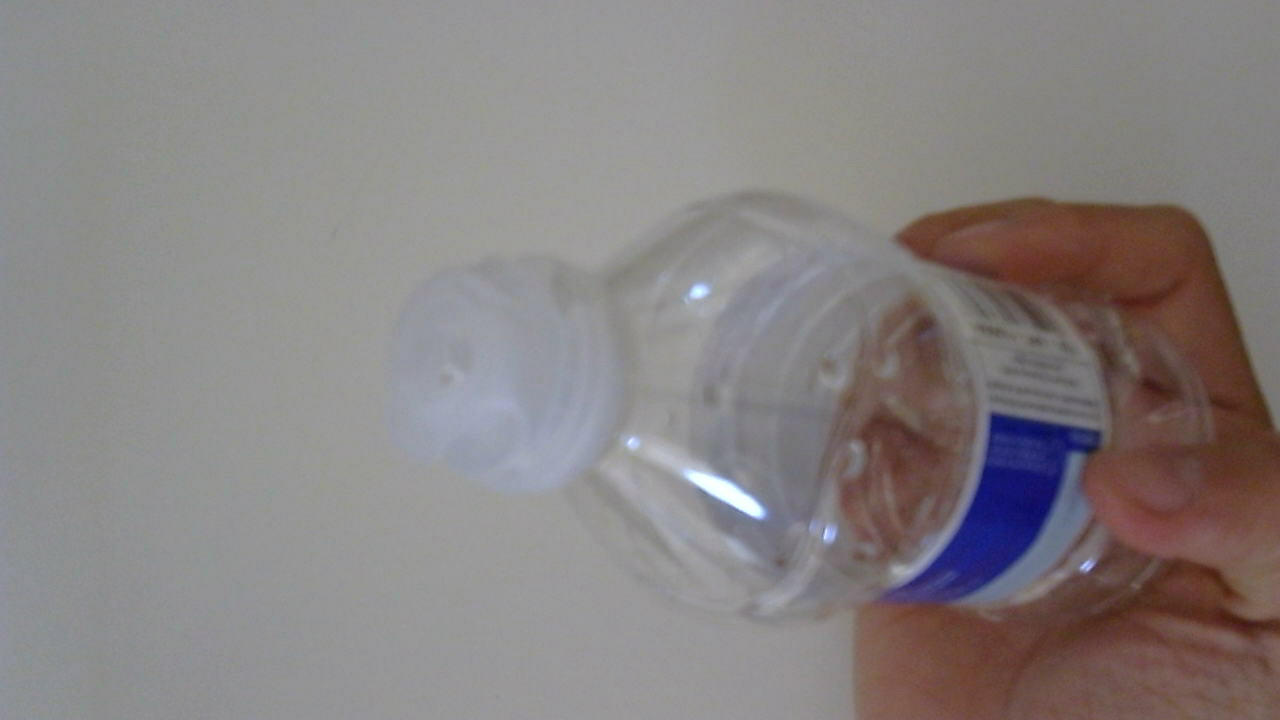Plastic Bottle: (378, 187, 1221, 643)
